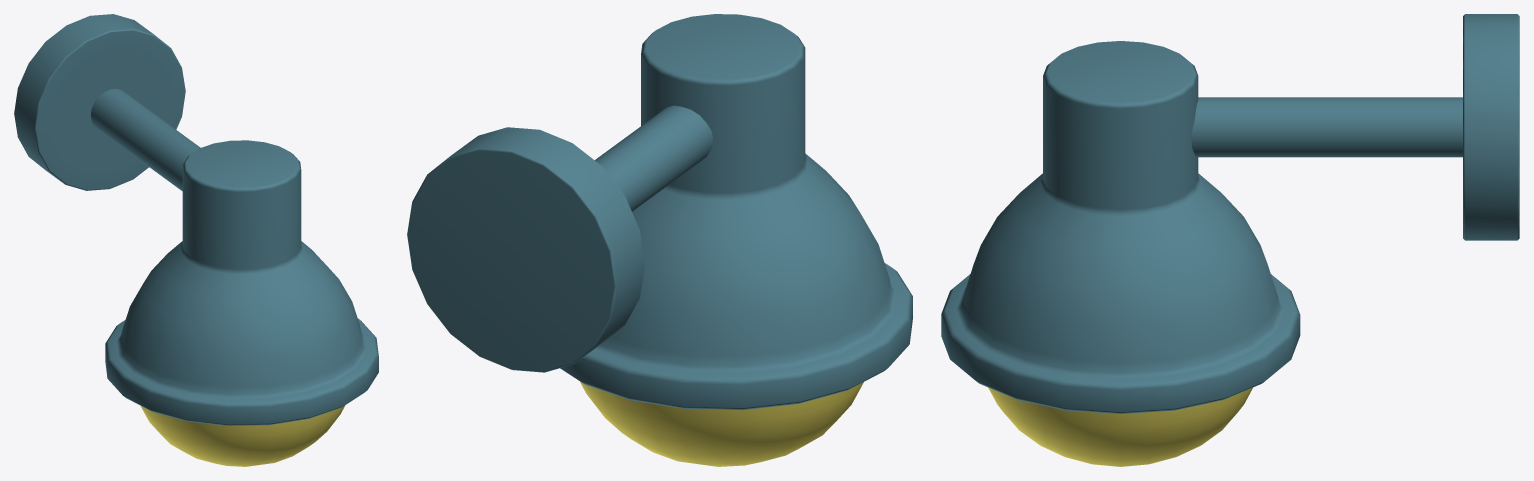
File: City_3_Wall_Lamp_1.glb
The picture shows the model from 3 angles, left to right: view 1: azimuth 30°, elevation 25°; view 2: azimuth 150°, elevation 25°; view 3: azimuth 270°, elevation 25°; orthographic projection. The views are drawn at different scales.
Parts seen in each view (by area): view 1: City_3_Wall_Lamp_1; view 2: City_3_Wall_Lamp_1; view 3: City_3_Wall_Lamp_1.
Boxes of the visible parts, bbox=[...] form: City_3_Wall_Lamp_1: bbox=[14, 14, 378, 466]; City_3_Wall_Lamp_1: bbox=[407, 14, 912, 466]; City_3_Wall_Lamp_1: bbox=[941, 14, 1519, 466].
Size of the model in its own units: 0.4333 by 0.5693 by 0.6984.
1 material, 1 textured.
